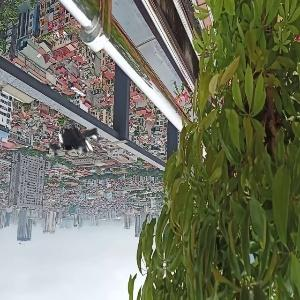drone: (38, 107, 117, 186)
